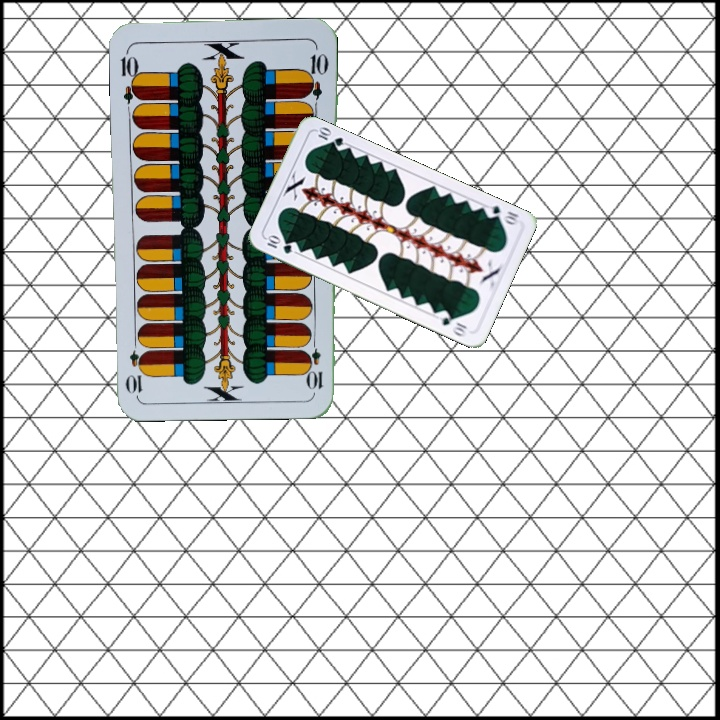E10: (117, 46, 144, 105), (306, 333, 325, 392)
G10: (481, 201, 522, 227), (262, 232, 295, 257)
